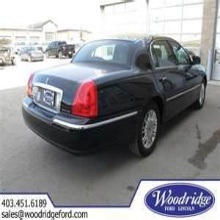no damage: (21, 34, 206, 157)
